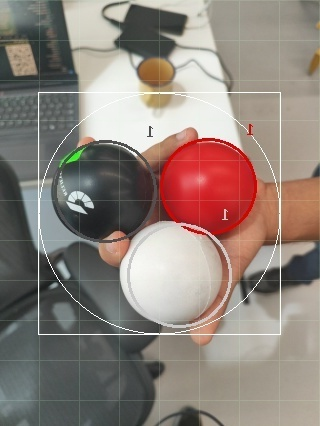Pelota blanca: (119, 220, 233, 331), (135, 55, 177, 89)
Pelota negra: (50, 137, 159, 246), (154, 406, 228, 425)
Pelota roja: (159, 137, 260, 235)
